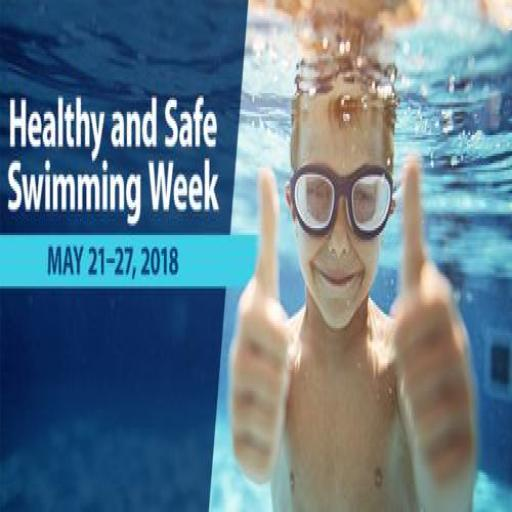swimming: (226, 28, 482, 510)
